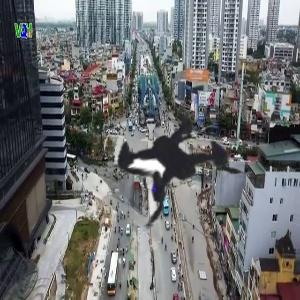drone: (51, 29, 298, 276)
